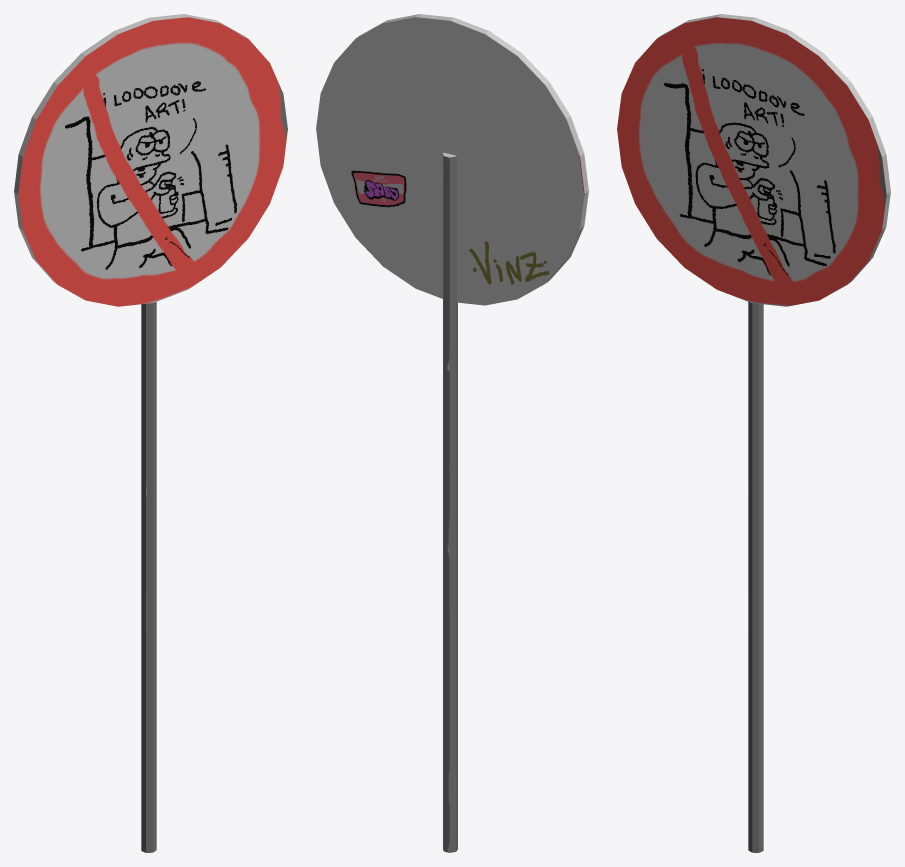
The model's file is trafficsignfbx.fbx.
The picture shows the model from 3 angles, left to right: view 1: azimuth 30°, elevation 25°; view 2: azimuth 150°, elevation 25°; view 3: azimuth 330°, elevation 25°; orthographic projection.
Visible parts, largest first — view 1: Cylinder; view 2: Cylinder; view 3: Cylinder.
Part boxes in pixels (x1=…): Cylinder: x1=14, y1=14, x2=287, y2=852; Cylinder: x1=316, y1=14, x2=588, y2=852; Cylinder: x1=617, y1=14, x2=890, y2=852.
Size of the model in its own units: 200 by 590 by 10.11.
Materials: 1 (1 with a texture image).
